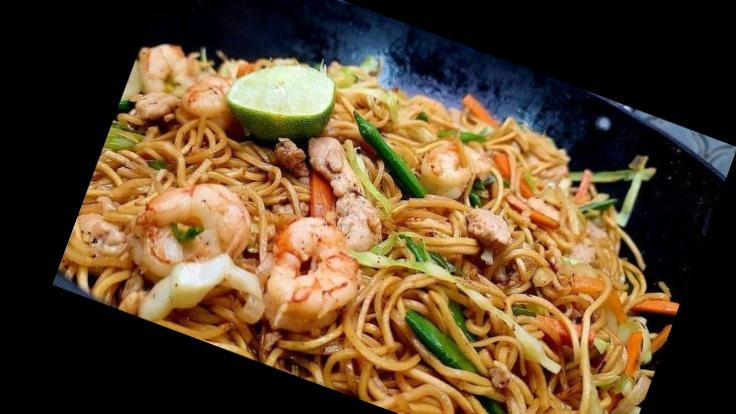pancit bihon: (59, 50, 655, 413)
